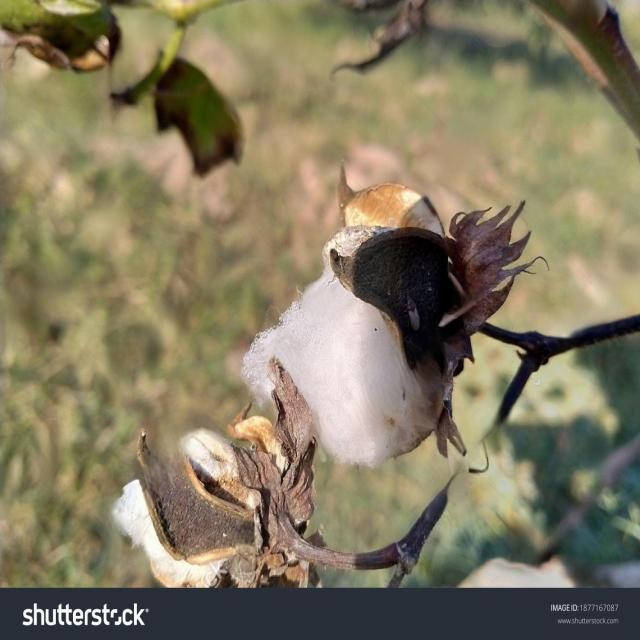Leaf: (213, 150, 565, 475), (105, 356, 326, 594)
